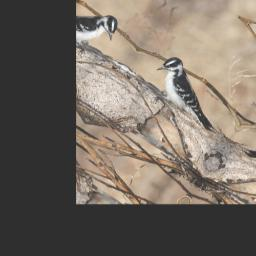Woodpecker: (139, 52, 240, 139)
